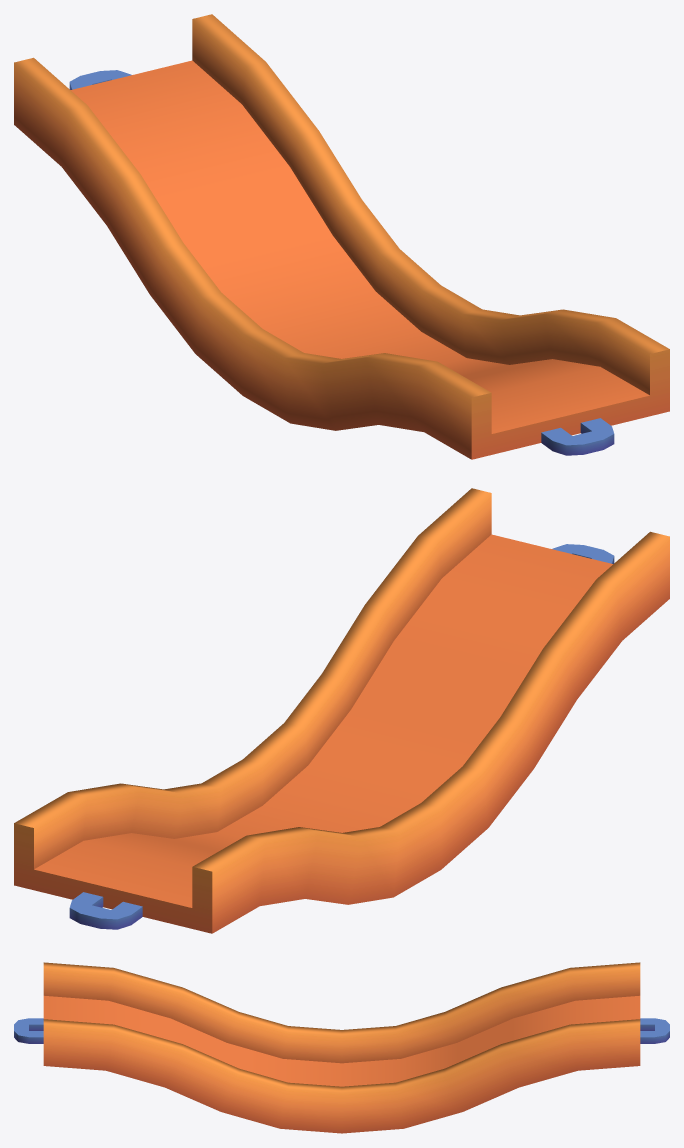
Rendered from kenney-toy-car-track-narrow-straight-bump-down.glb.
3 views of the same model, one above another, from view 1: azimuth 30°, elevation 25°; view 2: azimuth 150°, elevation 25°; view 3: azimuth 270°, elevation 25° (orthographic). The views are drawn at different scales.
Parts seen in each view (by area): view 1: track-narrow-straight-bump-down; view 2: track-narrow-straight-bump-down; view 3: track-narrow-straight-bump-down.
Boxes of the visible parts, x1,y1,x2,y2 form: track-narrow-straight-bump-down: [14, 14, 669, 459]; track-narrow-straight-bump-down: [14, 488, 669, 933]; track-narrow-straight-bump-down: [14, 962, 669, 1133].
Size of the model in its own units: 1 by 0.7998 by 4.4.
Materials: 1 (1 with a texture image).
